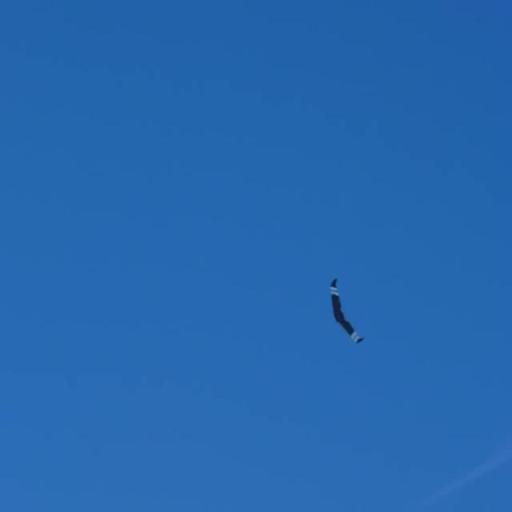uav: (326, 274, 366, 350)
